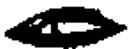Mouth: (3, 4, 126, 48)
